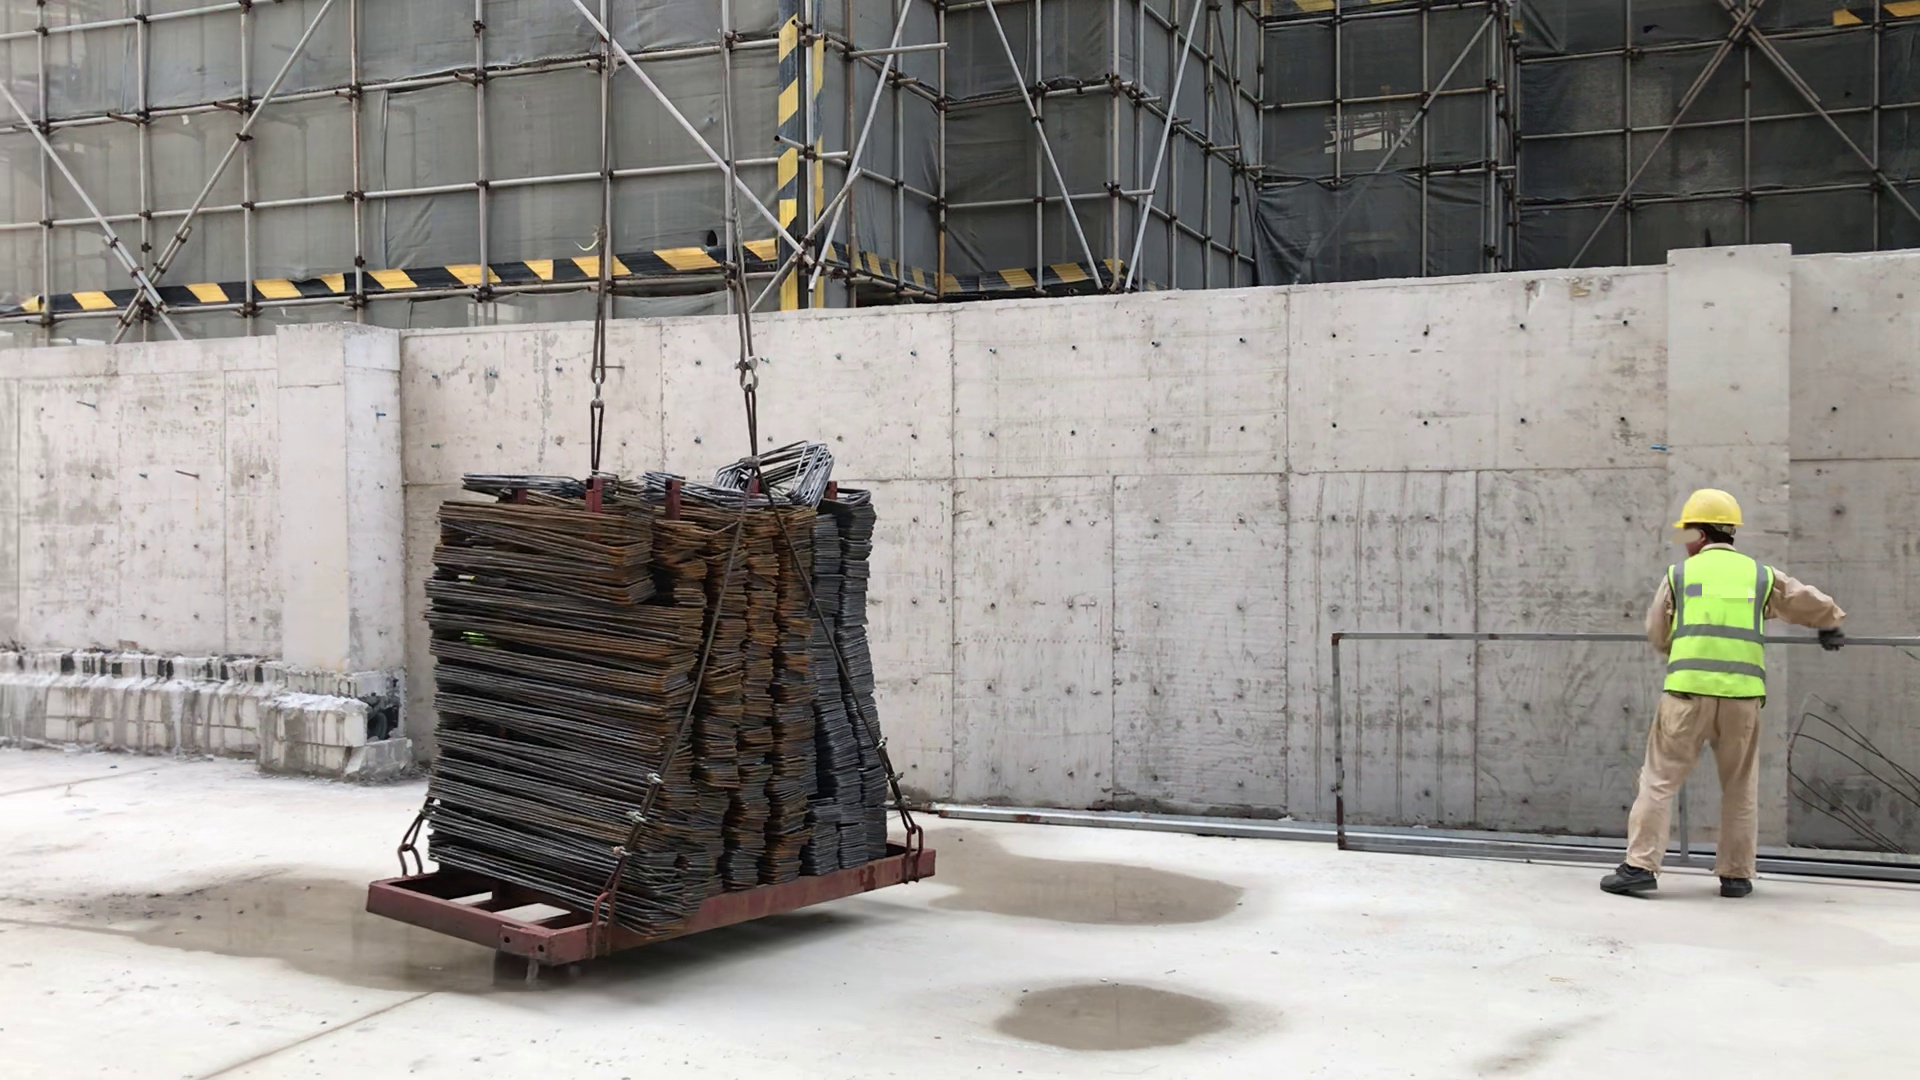helmet: (1675, 483, 1749, 536)
person: (1627, 462, 1769, 925)
vest: (1660, 558, 1764, 691)
